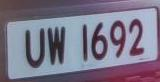1: (77, 18, 92, 68)
2: (126, 13, 148, 61)
6: (88, 17, 110, 66)
9: (108, 16, 129, 63)
U: (21, 24, 48, 74)
W: (44, 22, 69, 71)
